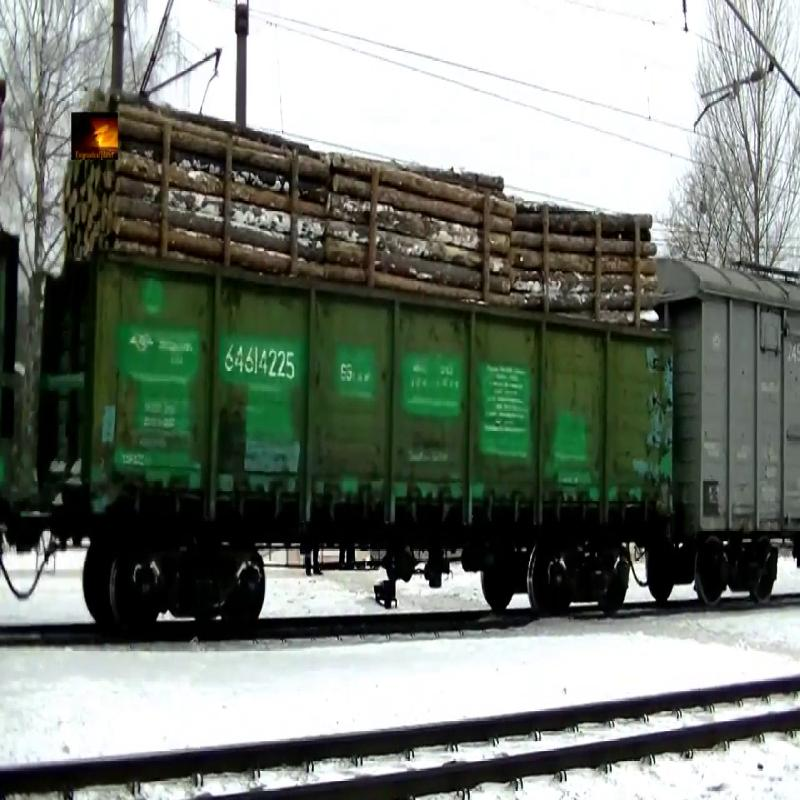train: (679, 260, 798, 598)
